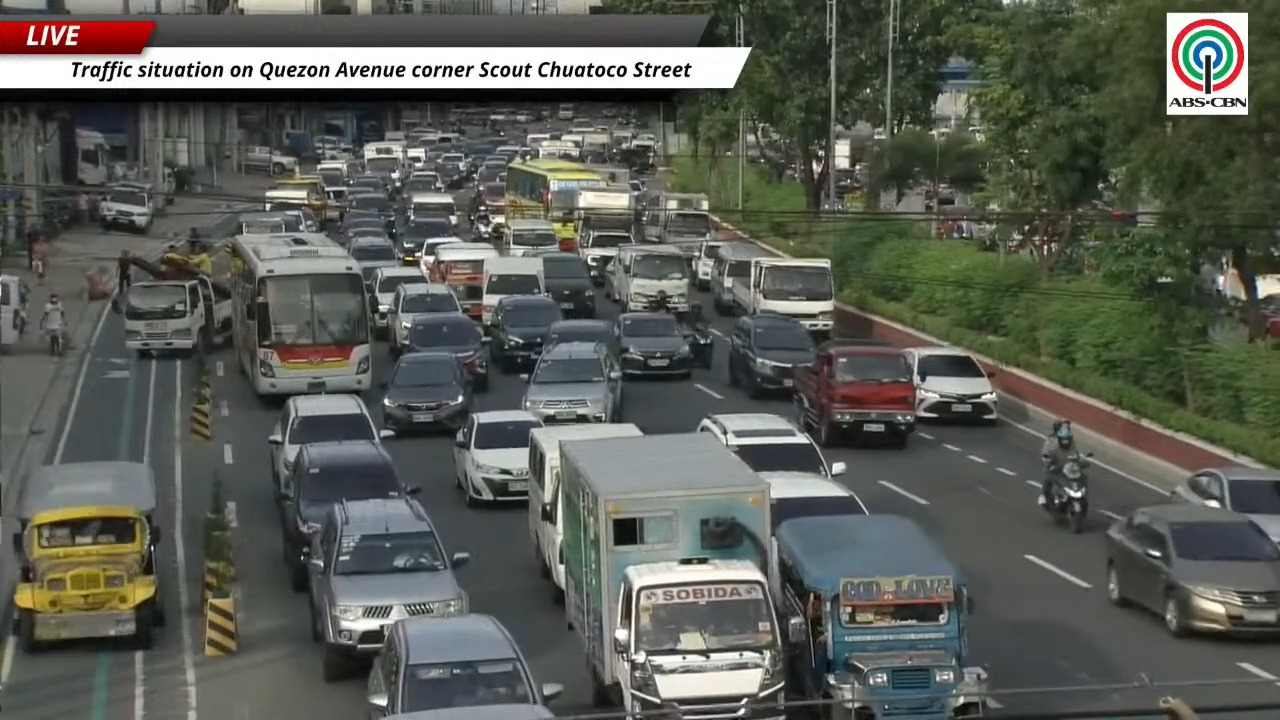bus: (228, 233, 371, 395), (505, 159, 606, 251)
car: (308, 498, 469, 681), (1105, 503, 1279, 636), (280, 440, 419, 591), (367, 613, 562, 719), (268, 395, 392, 497), (697, 413, 846, 478), (453, 410, 542, 505), (1171, 466, 1279, 542), (522, 342, 622, 423), (728, 314, 816, 397), (904, 346, 998, 422), (382, 352, 470, 433), (404, 314, 488, 391), (761, 472, 868, 529), (489, 295, 562, 372), (611, 312, 694, 377), (388, 281, 461, 354), (368, 264, 425, 336), (541, 250, 595, 317), (346, 236, 399, 291), (397, 216, 454, 264), (544, 319, 612, 347), (349, 191, 393, 217), (340, 226, 393, 247), (340, 209, 384, 232), (402, 170, 442, 195), (1259, 293, 1279, 339), (350, 173, 389, 194)
motorcycle: (646, 292, 713, 368), (1044, 453, 1091, 533), (470, 216, 493, 242), (47, 329, 64, 357)
truck: (560, 434, 785, 719), (772, 514, 987, 719), (528, 423, 642, 600), (793, 339, 916, 448), (118, 276, 232, 356), (730, 257, 834, 338), (642, 192, 714, 242), (572, 188, 633, 234), (75, 129, 113, 185), (240, 146, 298, 175), (583, 164, 632, 186), (557, 103, 574, 120)
